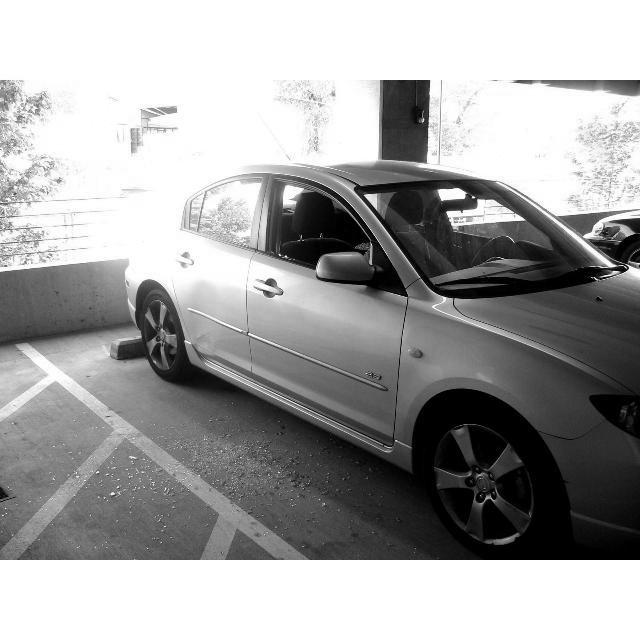doorouter-dent: (176, 193, 251, 382)
